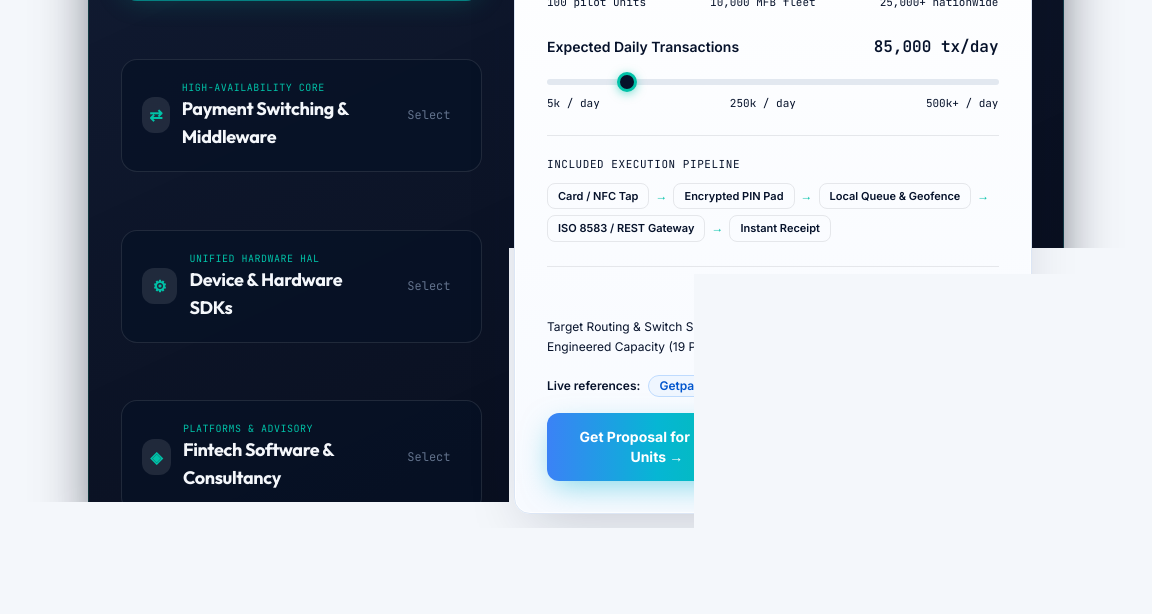
Scenario: Dribbble-inspired sections & theme toggle › SolutionsExplorer switches active pillar tab and updates white card
(page scrolled)
Click the button "⚙ UNIFIED HARDWARE HAL Device & Hardware SDKs Select". click: click(301, 286)
box: [121,230,482,343]
(page scrolled)
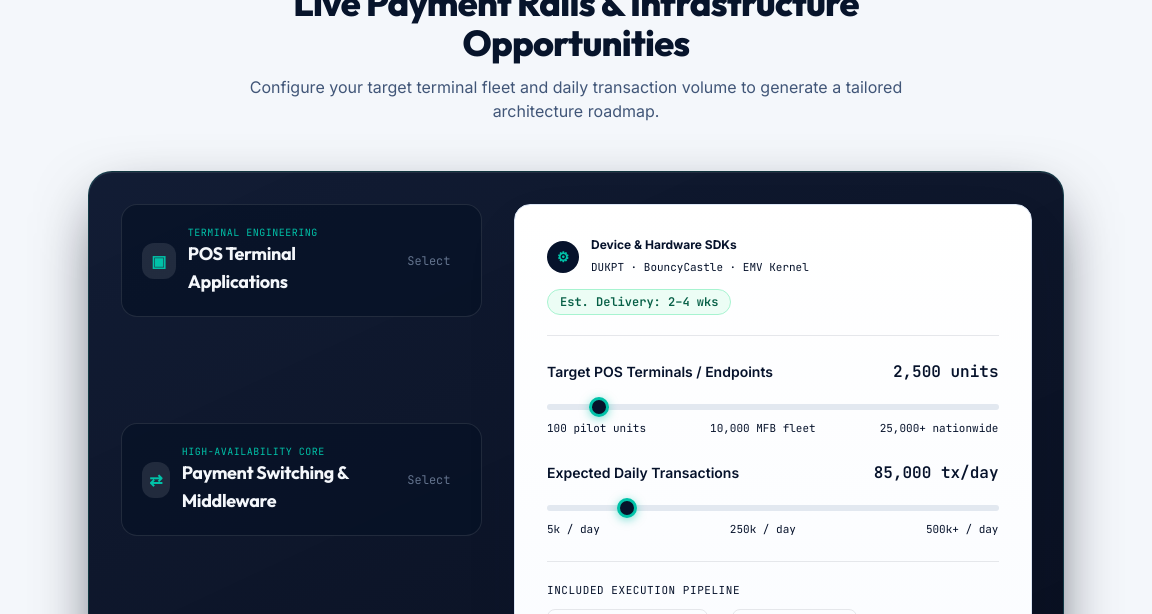
Expected: the text "DUKPT · BouncyCastle · EMV Kernel" is shown, [590,260,808,274]
